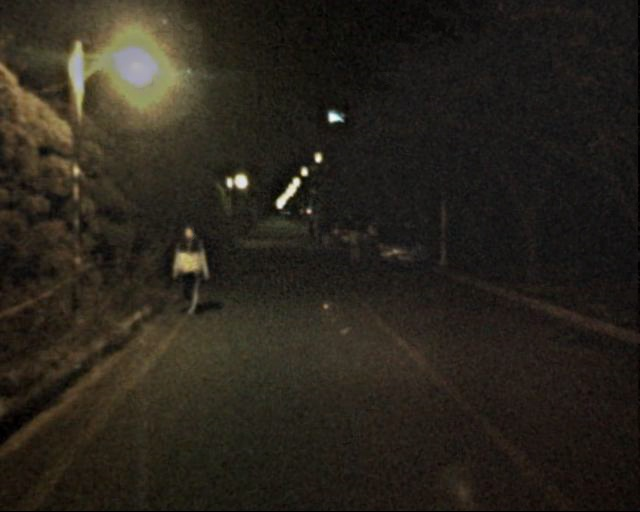person: (173, 222, 212, 316), (347, 225, 365, 269), (306, 221, 327, 247)
